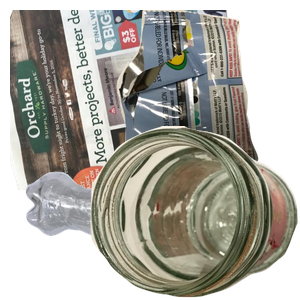glass: (90, 126, 300, 300)
paper: (10, 10, 250, 190)
plastic: (23, 169, 243, 300)
trash: (114, 10, 300, 180)
